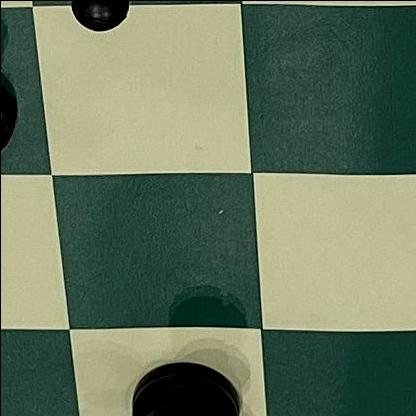black-pawn: (46, 0, 178, 43)
black-rook: (113, 350, 256, 416)
